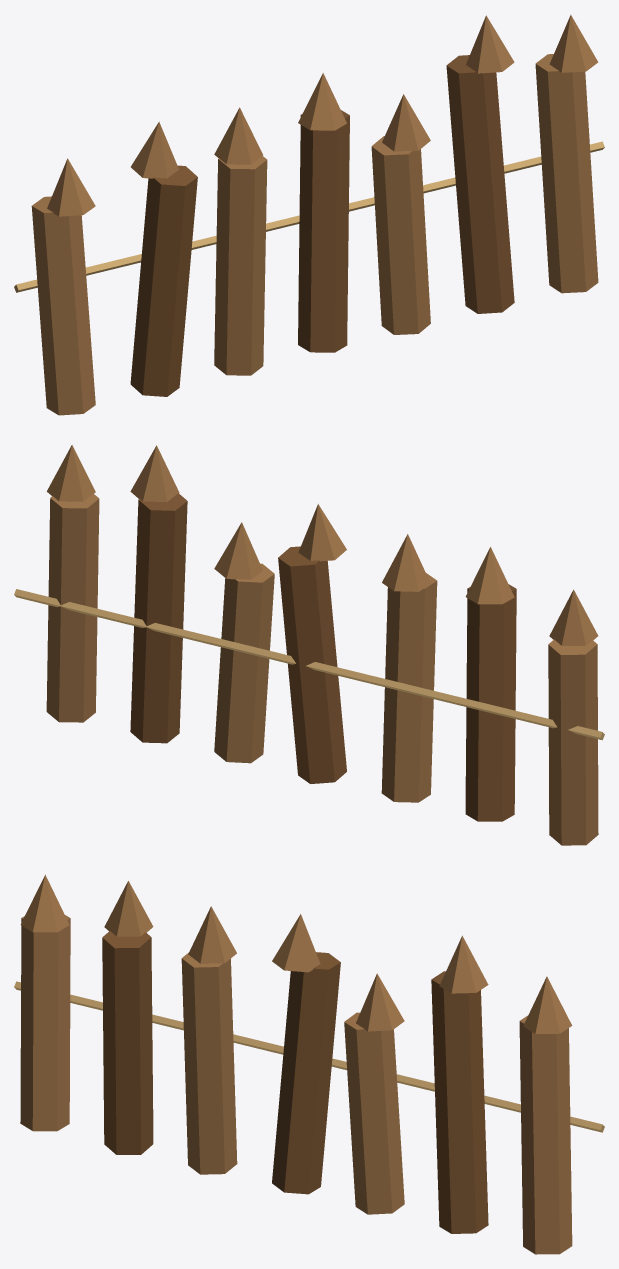
File: SM_Palisade_4m.fbx
3 renders of one model, top to bottom at view 1: azimuth 30°, elevation 25°; view 2: azimuth 150°, elevation 25°; view 3: azimuth 330°, elevation 25°, orthographic.
Visible parts, largest first — view 1: SM_Palisade_4m; view 2: SM_Palisade_4m; view 3: SM_Palisade_4m.
Part boxes in pixels (x1,y1,x2,y2): SM_Palisade_4m: [14, 14, 604, 415]; SM_Palisade_4m: [14, 445, 604, 845]; SM_Palisade_4m: [14, 874, 604, 1254].
Bounding box in the file's own units: 4.4 × 0.5626 × 2.09.
